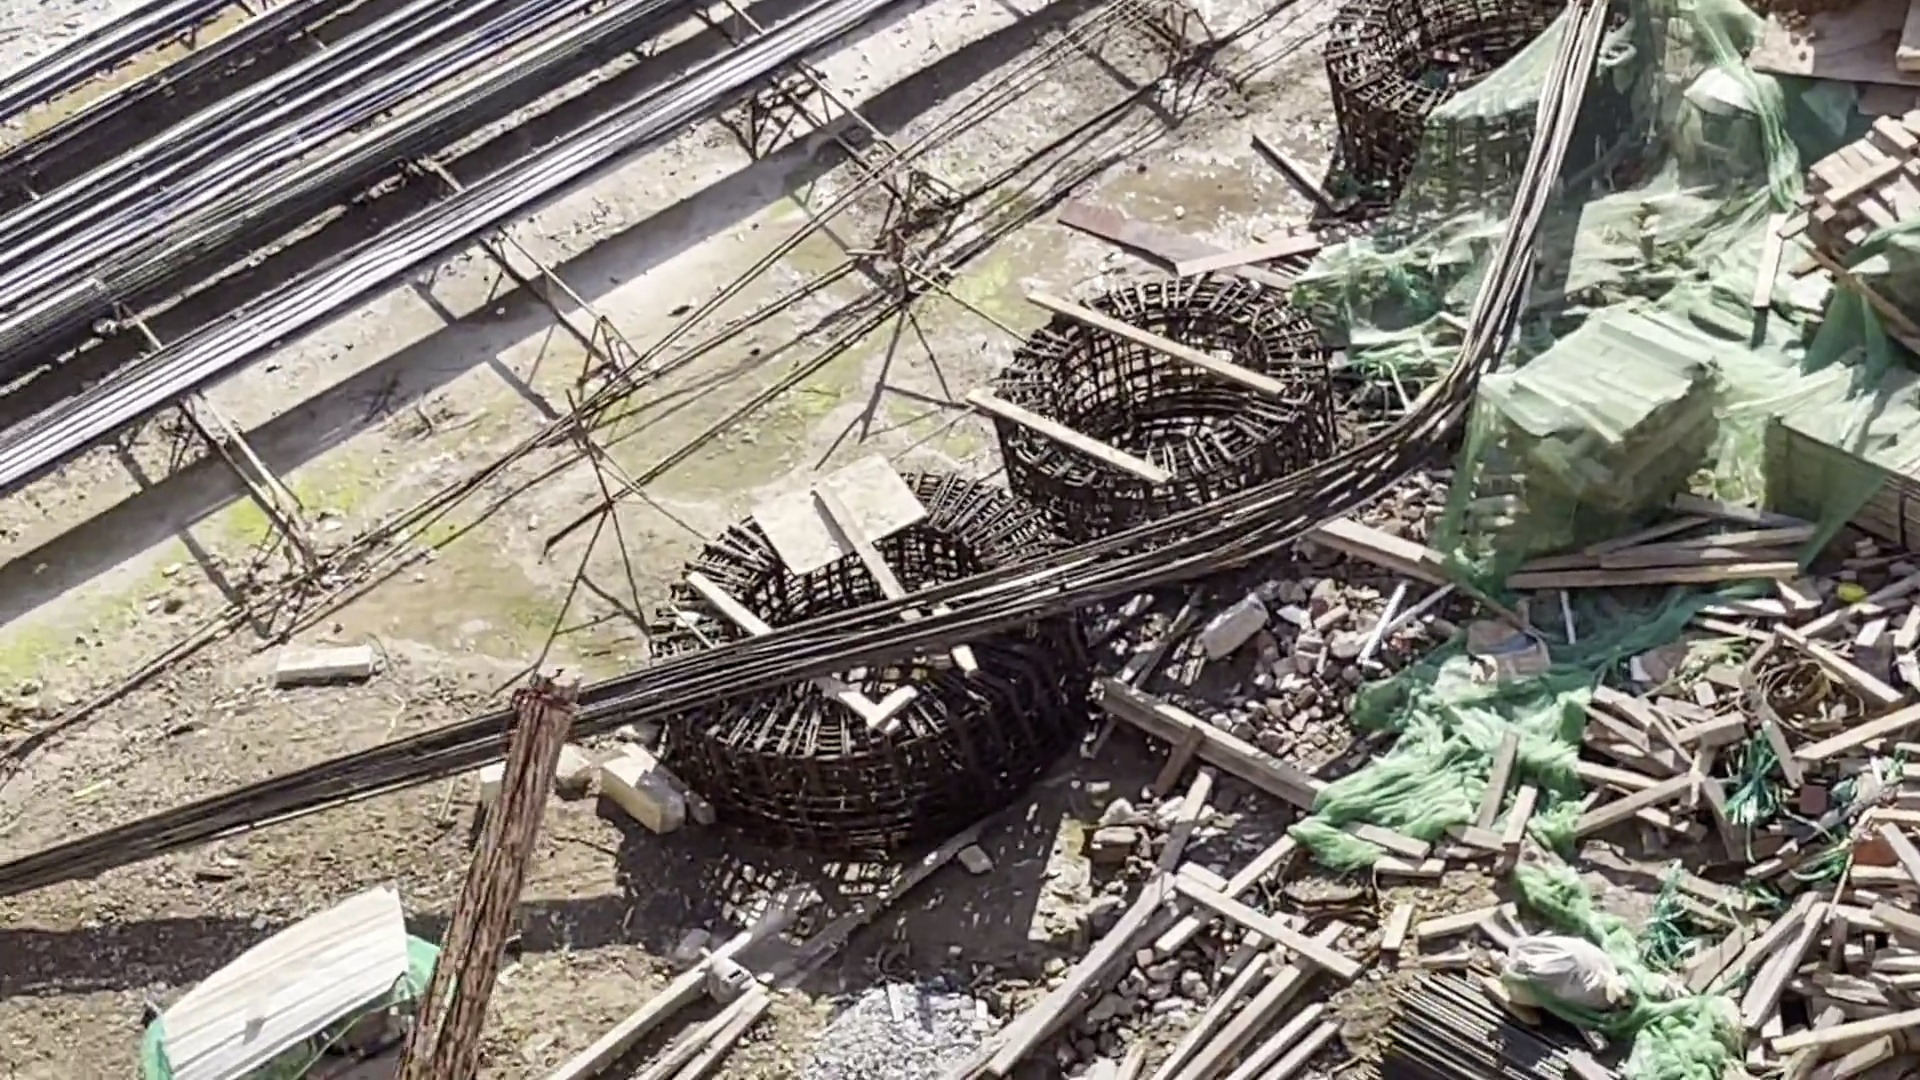rebar: (1, 512, 1302, 898), (1, 1, 985, 488)
wood: (1499, 305, 1731, 502)
